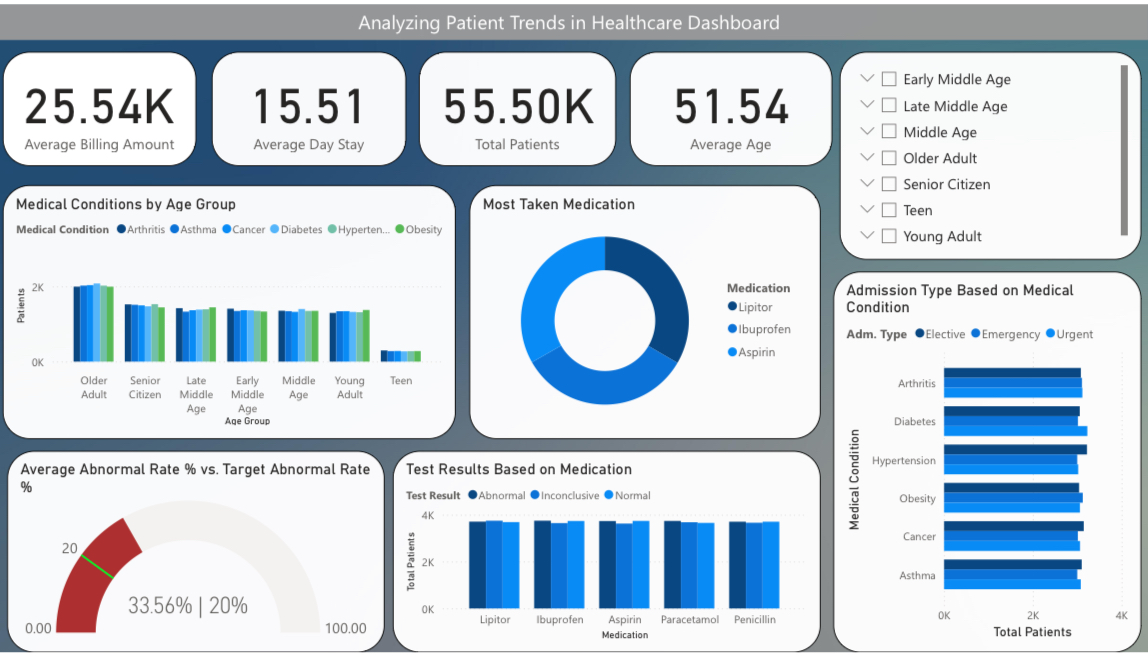

This screenshot's page, from the dashboard's own definition file:
{"tool":"powerbi","page":{"name":"Page 1","canvas":[1280,720],"ordinal":0},"visuals":[{"type":"card","fields":{"Values":["CountNonNull(healthcare_data_set.name)"]},"box":[469.6,53,219.6,126.9],"z":0},{"type":"card","fields":{"Values":["Avg(healthcare_data_set.billing_amount)"]},"box":[7.6,53,215.9,126.9],"z":1000},{"type":"card","fields":{"Values":["healthcare_data_set.Average Stay Length"]},"box":[240.5,53,215.9,126.9],"z":2000},{"type":"card","fields":{"Values":["healthcare_data_set.Average Age"]},"box":[703.8,52.5,225,127.5],"z":3000},{"type":"textbox","box":[0,0,1280,39.8],"z":4000},{"type":"clusteredColumnChart","title":"Medical Conditions by Age Group","fields":{"Category":["healthcare_data_set.age_group"],"Y":["CountNonNull(healthcare_data_set.name)"],"Series":["healthcare_data_set.medical_condition"]},"box":[7.6,200.7,503.7,282.1],"z":5000},{"type":"slicer","fields":{"Values":["healthcare_data_set.age_group","healthcare_data_set.gender","healthcare_data_set.medical_condition","healthcare_data_set.medication","healthcare_data_set.test_result","healthcare_data_set.admission_type","healthcare_data_set.billing_amount"]},"box":[937.3,53,335.1,231],"z":6000},{"type":"clusteredColumnChart","title":"Test Results Based on Medication","fields":{"Category":["healthcare_data_set.medication"],"Series":["healthcare_data_set.test_result"],"Y":["healthcare_data_set.Total Patients"]},"box":[441.2,496.1,475.3,223.4],"z":7000},{"type":"donutChart","title":"Most Taken Medication","fields":{"Y":["healthcare_data_set.Total Patients"],"Category":["healthcare_data_set.medication"]},"box":[526.4,200.7,390.1,282.1],"z":8000},{"type":"clusteredBarChart","title":"Admission Type Based on Medical Condition","fields":{"Series":["healthcare_data_set.admission_type"],"Y":["healthcare_data_set.Total Patients"],"Category":["healthcare_data_set.medical_condition"]},"box":[929.7,297.3,342.7,422.2],"z":9000},{"type":"gauge","title":"Average Abnormal Rate % vs. Target Abnormal Rate %","fields":{"Y":["healthcare_data_set.Abnormal Rate %"],"TargetValue":["healthcare_data_set.Target Abnormal Rate %"]},"box":[13.3,496.1,418.5,223.4],"z":10000}]}

Visuals, with their boxes in screenshot pixels (x1, y1, x2, y2), scaled from the page's 1280x720 canvas onto the 1148x657 screenshot:
card - CountNonNull(healthcare_data_set.name): box=[421, 48, 618, 164]
card - Avg(healthcare_data_set.billing_amount): box=[7, 48, 200, 164]
card - healthcare_data_set.Average Stay Length: box=[216, 48, 409, 164]
card - healthcare_data_set.Average Age: box=[631, 48, 833, 164]
textbox: box=[0, 0, 1147, 36]
"Medical Conditions by Age Group" clusteredColumnChart: box=[7, 183, 459, 441]
slicer - healthcare_data_set.age_group x healthcare_data_set.gender: box=[841, 48, 1141, 259]
"Test Results Based on Medication" clusteredColumnChart: box=[396, 453, 822, 656]
"Most Taken Medication" donutChart: box=[472, 183, 822, 441]
"Admission Type Based on Medical Condition" clusteredBarChart: box=[834, 271, 1141, 656]
"Average Abnormal Rate % vs. Target Abnormal Rate %" gauge: box=[12, 453, 387, 656]
